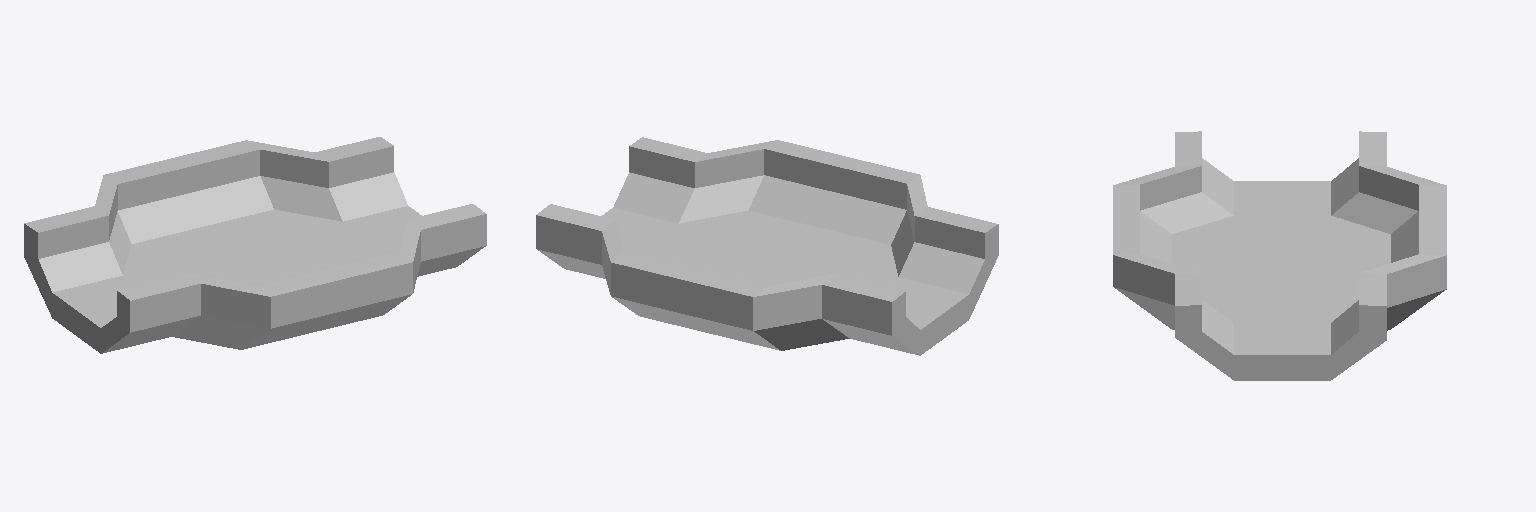
The model's file is Catwalk8.obj.
3 views of the same model, side by side, from view 1: azimuth 30°, elevation 25°; view 2: azimuth 150°, elevation 25°; view 3: azimuth 270°, elevation 25° (orthographic).
Visible parts, largest first — view 1: Catwalk8; view 2: Catwalk8; view 3: Catwalk8.
Boxes of the visible parts, <box> form: Catwalk8: <box>24,137,486,353</box>; Catwalk8: <box>536,137,998,355</box>; Catwalk8: <box>1113,131,1446,380</box>.
Size of the model in its own units: 19.15 by 3.88 by 15.56.